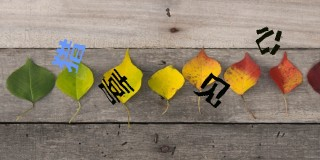喜: (98, 69, 134, 105)
心: (255, 26, 282, 55)
猎: (50, 40, 86, 72)
见: (194, 72, 230, 108)
